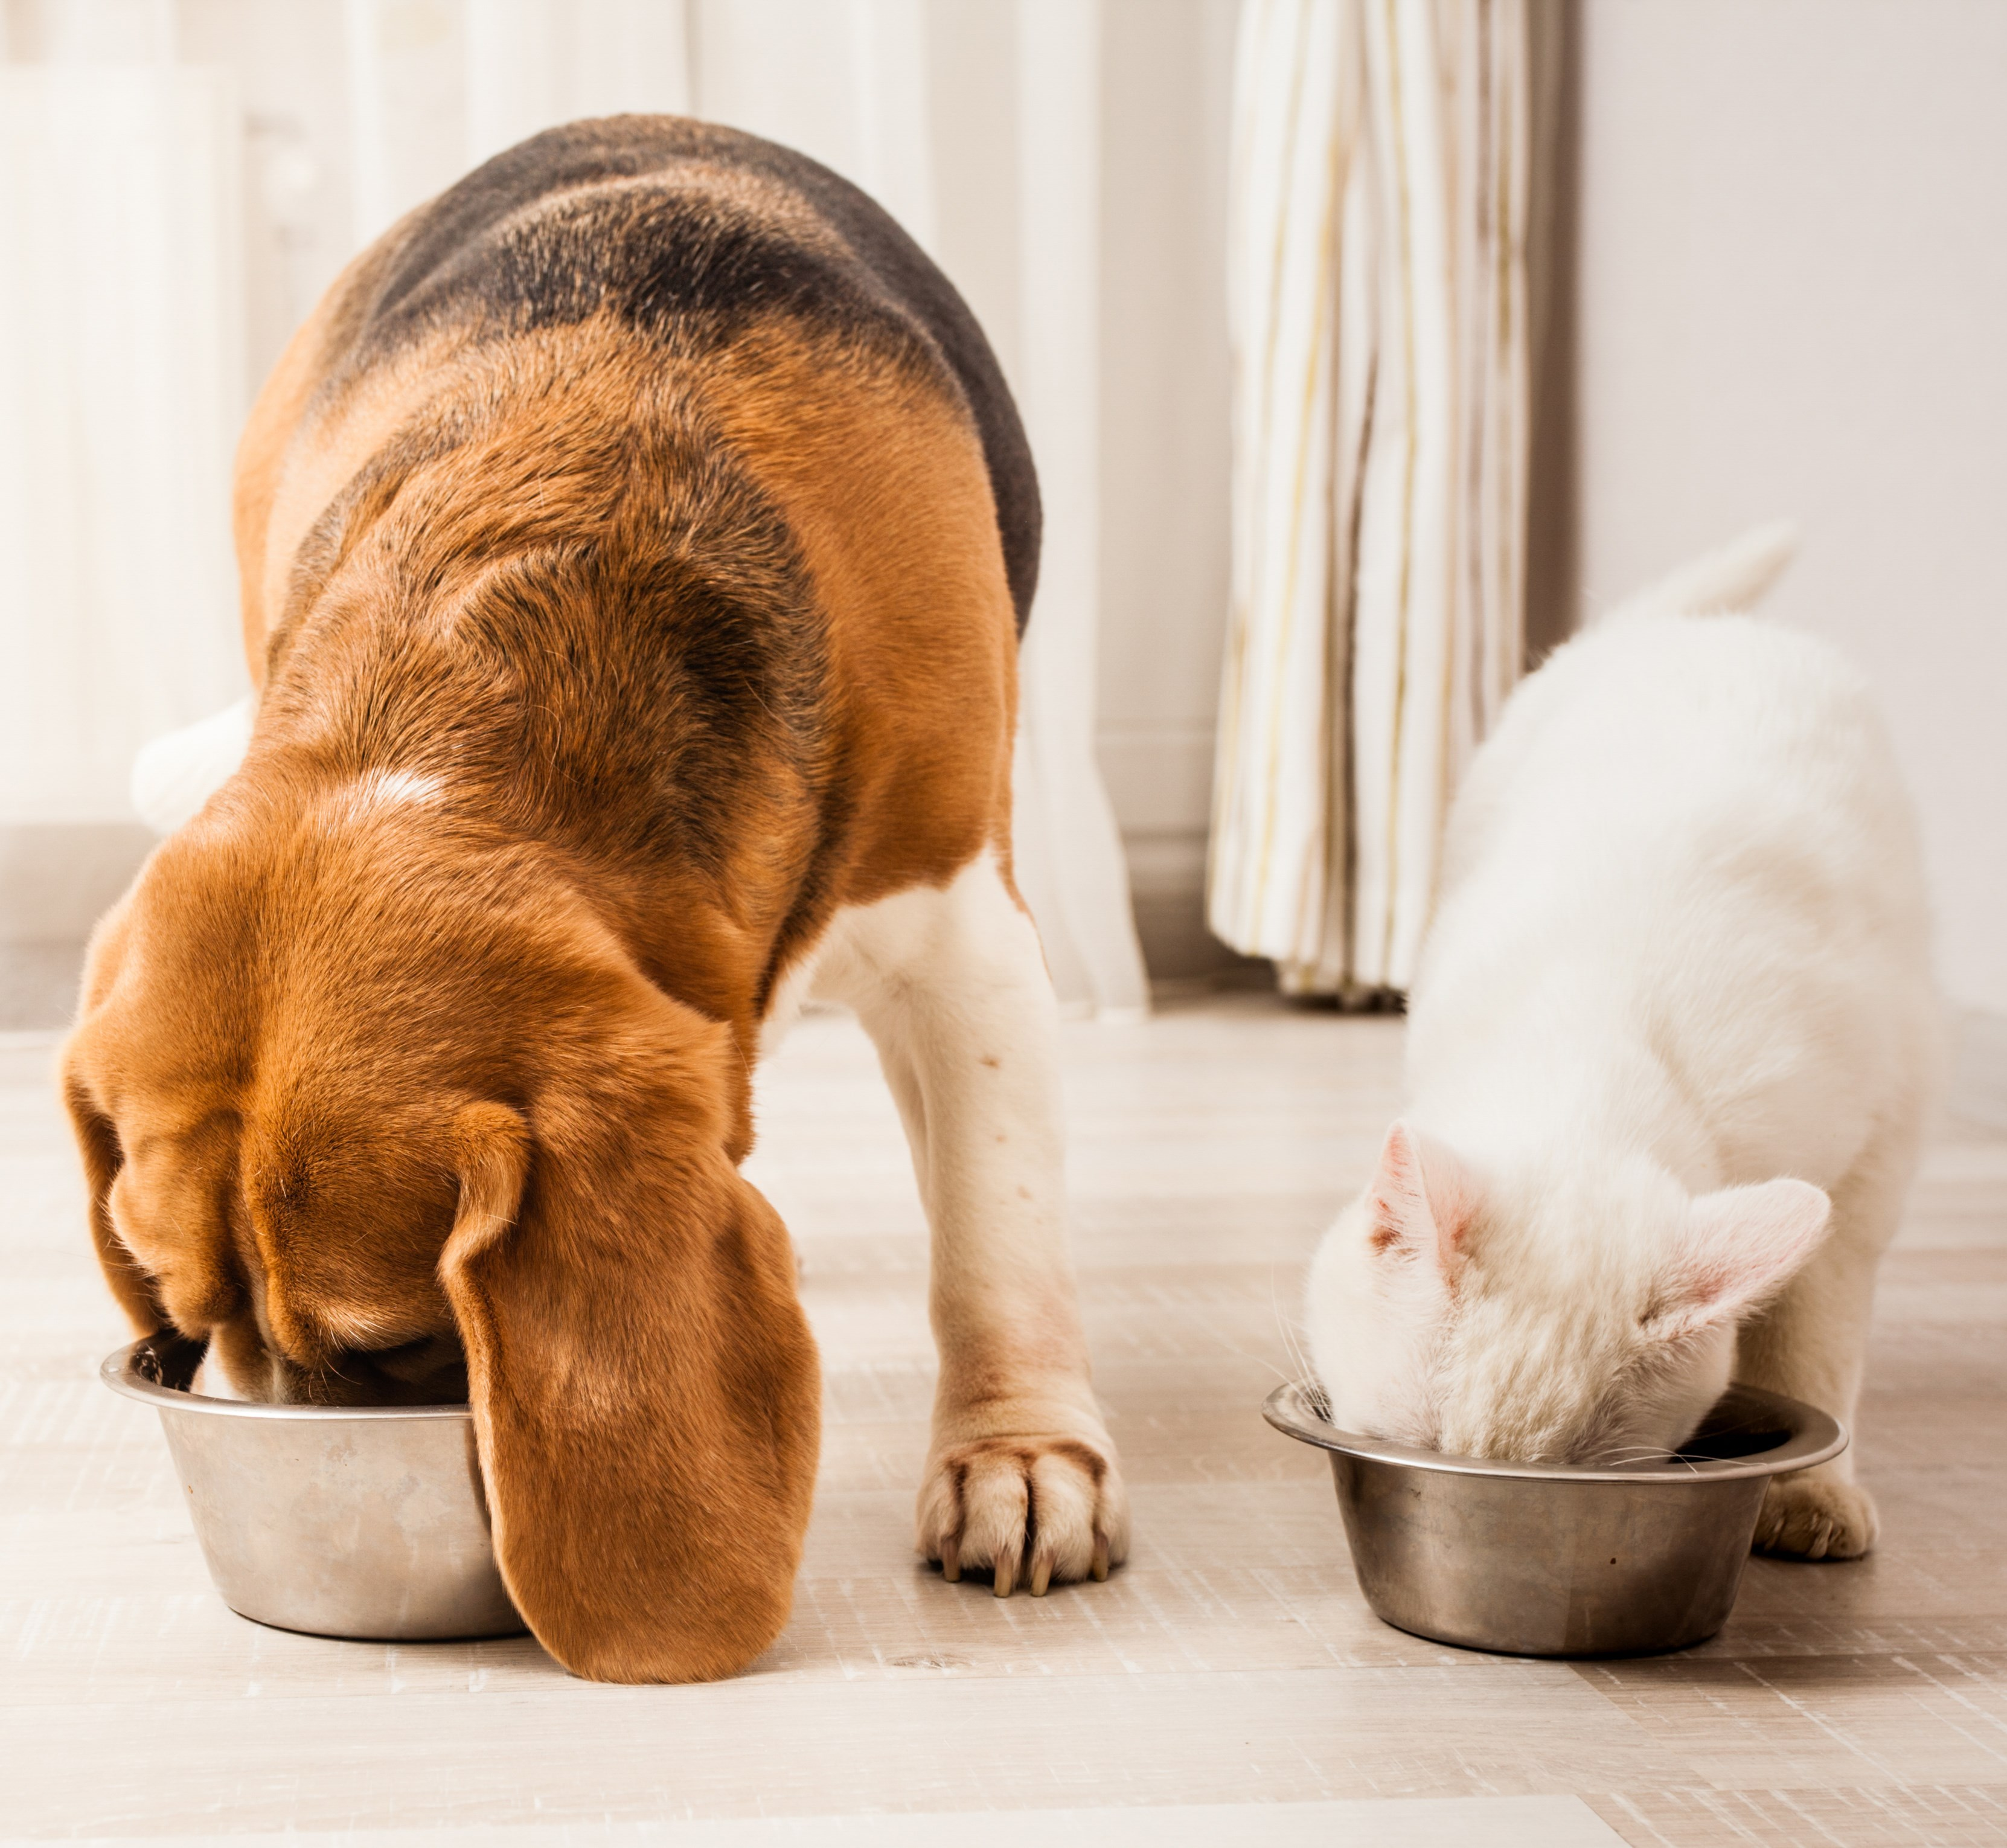pet: (126, 177, 1002, 1449)
